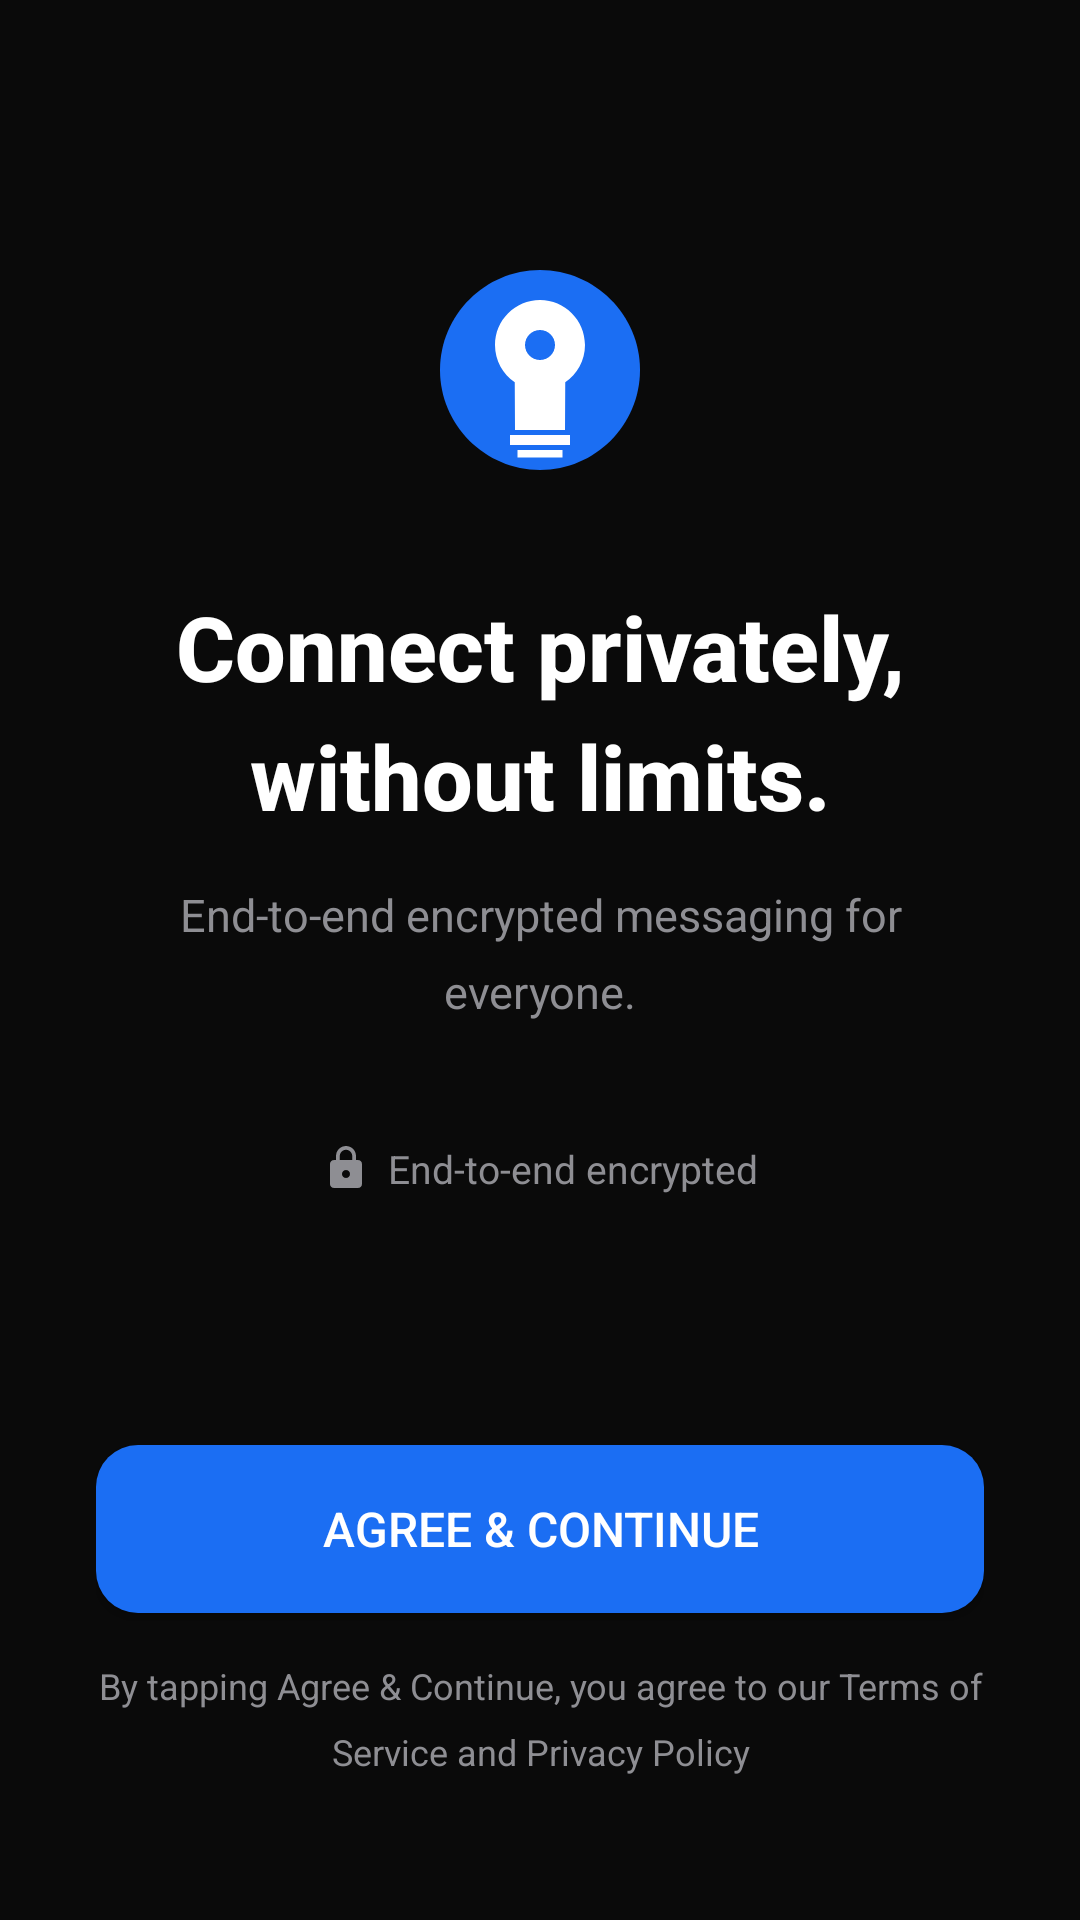

Named icons in this screenshot (1080px x 1920px) and their centers, [x,y]:
lock: [346,1167]
